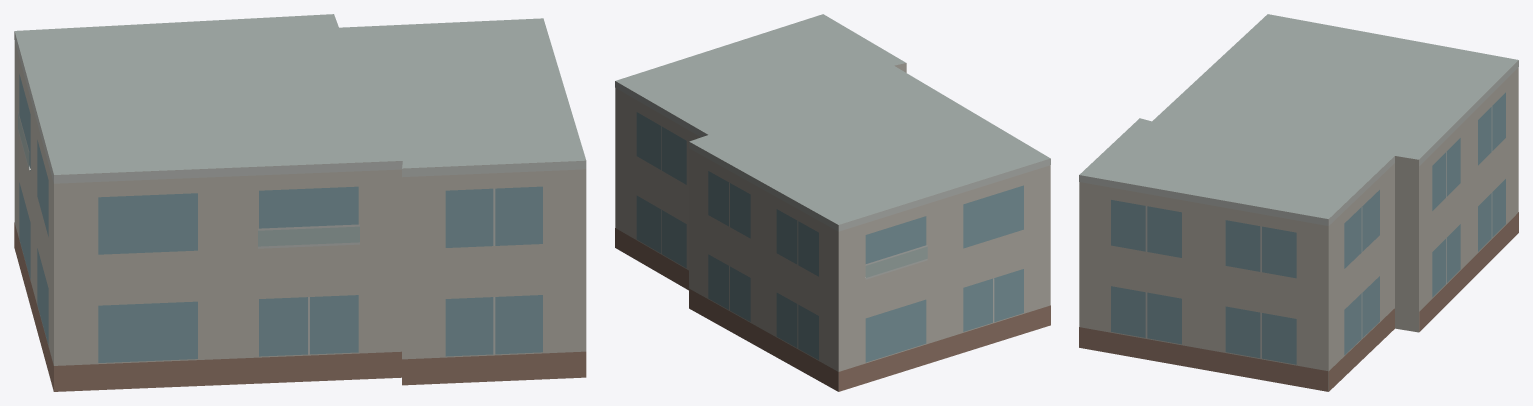
Rendered from survey-upis-32670310.glb.
3 renders of one model, left to right at view 1: azimuth 30°, elevation 25°; view 2: azimuth 150°, elevation 25°; view 3: azimuth 270°, elevation 25°, orthographic. The views are drawn at different scales.
Visible parts, largest first — view 1: survey-upis-32670310.tmp; view 2: survey-upis-32670310.tmp; view 3: survey-upis-32670310.tmp.
Part boxes in pixels (<box>): survey-upis-32670310.tmp: <box>14,14,586,391</box>; survey-upis-32670310.tmp: <box>615,14,1050,391</box>; survey-upis-32670310.tmp: <box>1079,14,1518,391</box>.
Size of the model in its own units: 15.55 by 6.1 by 14.08.
